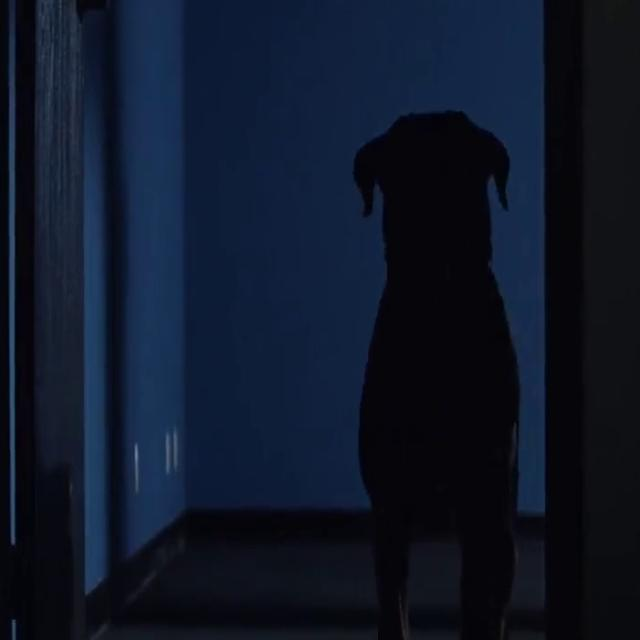People: (282, 78, 603, 585)
